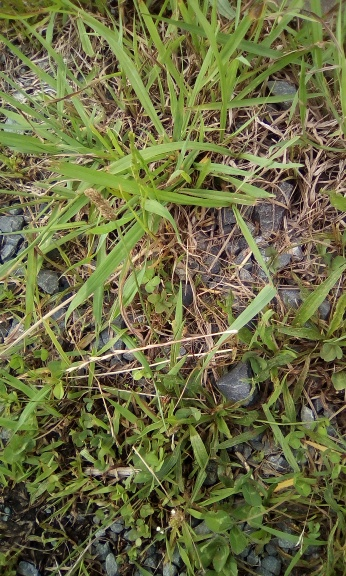4leaf: (147, 288, 173, 315), (138, 267, 161, 293)
